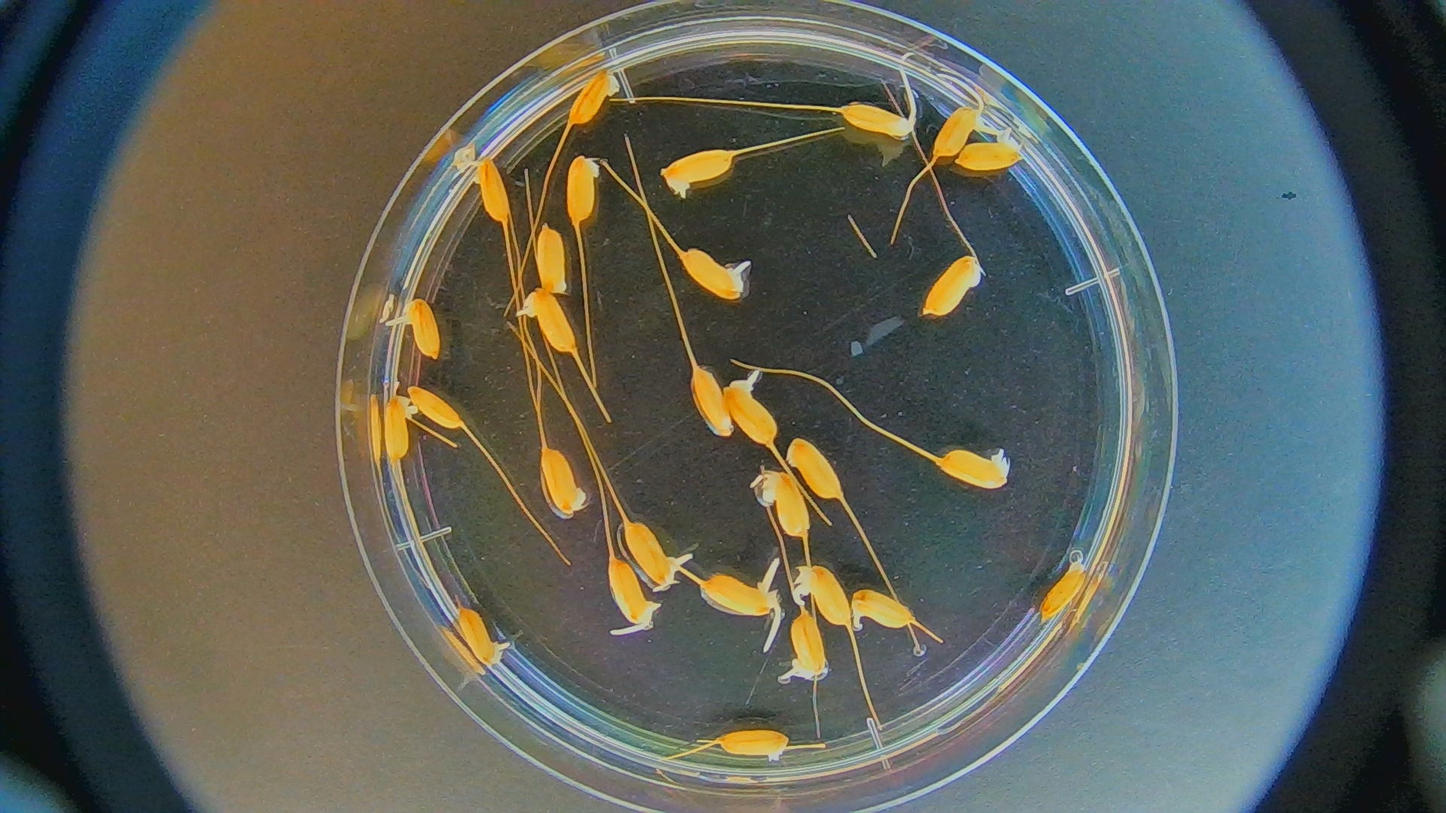no: (923, 254, 983, 319), (787, 440, 846, 499), (758, 474, 810, 538), (541, 446, 589, 515), (938, 446, 1011, 491), (563, 71, 623, 123), (659, 149, 731, 190), (691, 369, 733, 437), (1042, 563, 1087, 623), (469, 158, 510, 222), (568, 154, 602, 222), (408, 387, 462, 428), (716, 730, 787, 761), (538, 226, 568, 294), (383, 394, 413, 461)
yes: (627, 522, 688, 587), (795, 566, 851, 634), (525, 287, 580, 352), (725, 378, 777, 445), (706, 572, 779, 618), (455, 607, 510, 668), (679, 249, 746, 299), (611, 558, 658, 629), (778, 615, 826, 678), (955, 131, 1027, 172), (844, 99, 920, 137), (930, 101, 980, 157), (851, 589, 914, 633), (405, 299, 441, 358)
